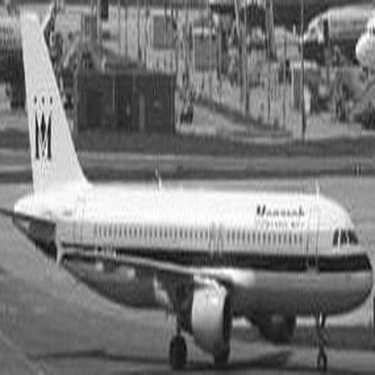airplane: (4, 1, 371, 368), (289, 1, 374, 75), (1, 1, 66, 92), (345, 9, 371, 83)
